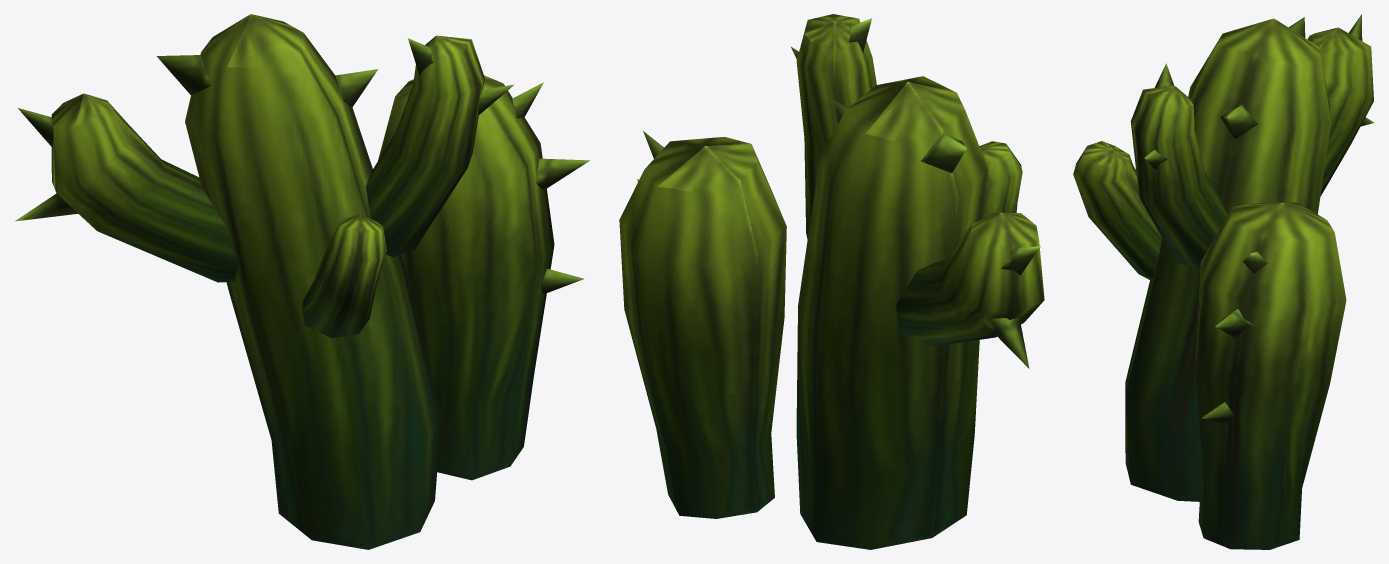
File: xianrenzhang04.FBX
The picture shows the model from 3 angles, left to right: view 1: azimuth 30°, elevation 25°; view 2: azimuth 150°, elevation 25°; view 3: azimuth 270°, elevation 25°; orthographic projection. The views are drawn at different scales.
Visible parts, largest first — view 1: xianrenzhang04; view 2: xianrenzhang04; view 3: xianrenzhang04.
Boxes of the visible parts, bbox=[...] form: xianrenzhang04: bbox=[15, 14, 589, 549]; xianrenzhang04: bbox=[619, 14, 1044, 549]; xianrenzhang04: bbox=[1073, 14, 1374, 549].
Bounding box in the file's own units: 114 × 108 × 68.28.
